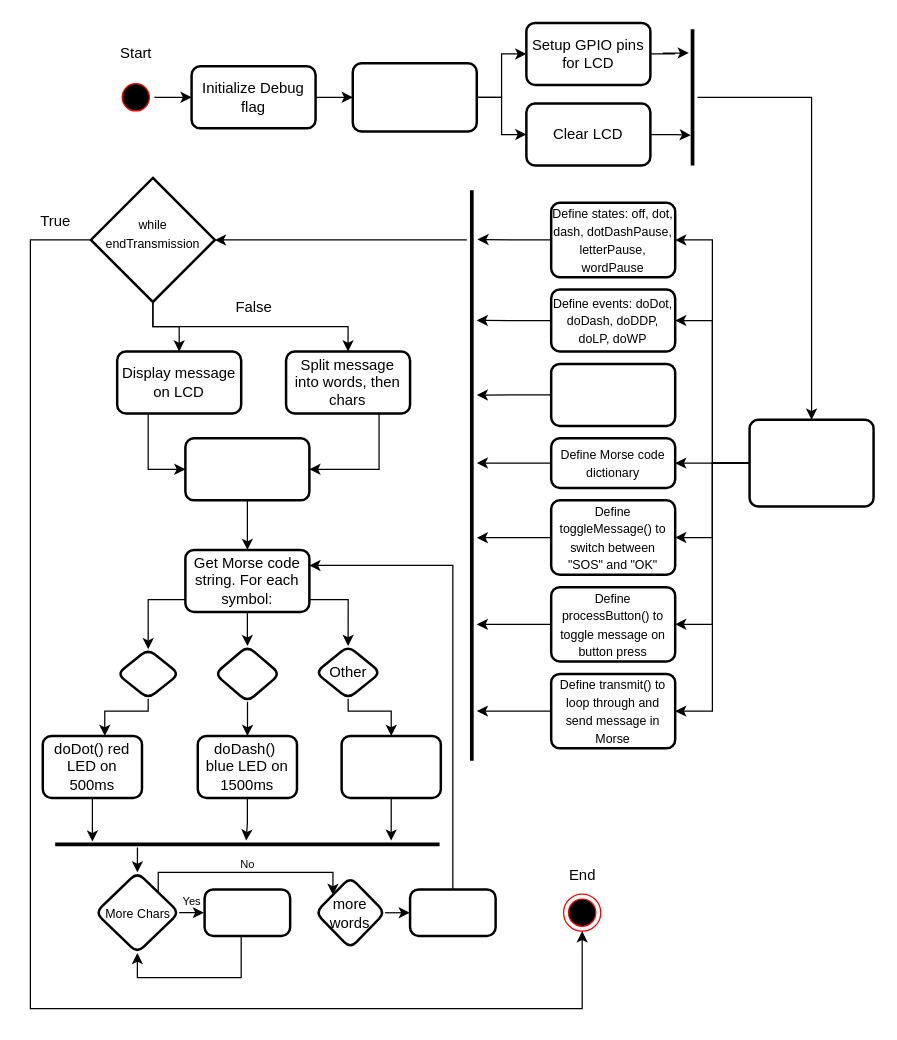
Image size: 897x1040. Some labels were removed from this diagram. Here are the shapes that lost their labels. From the top down, the centre of each, then its label:
pixel 414 96: Initialize LCD Display via ManagedDisplay
pixel 612 394: Define actions for each state (on_enter & on_exit)
pixel 247 468: Press Button
pixel 811 462: Define CWMachine (StateMachine subclass)
pixel 147 673: Dot
pixel 247 673: Dash
pixel 390 766: doDDP() pause 250ms
pixel 247 912: doLP() pause 750ms
pixel 452 912: pause 3000ms
